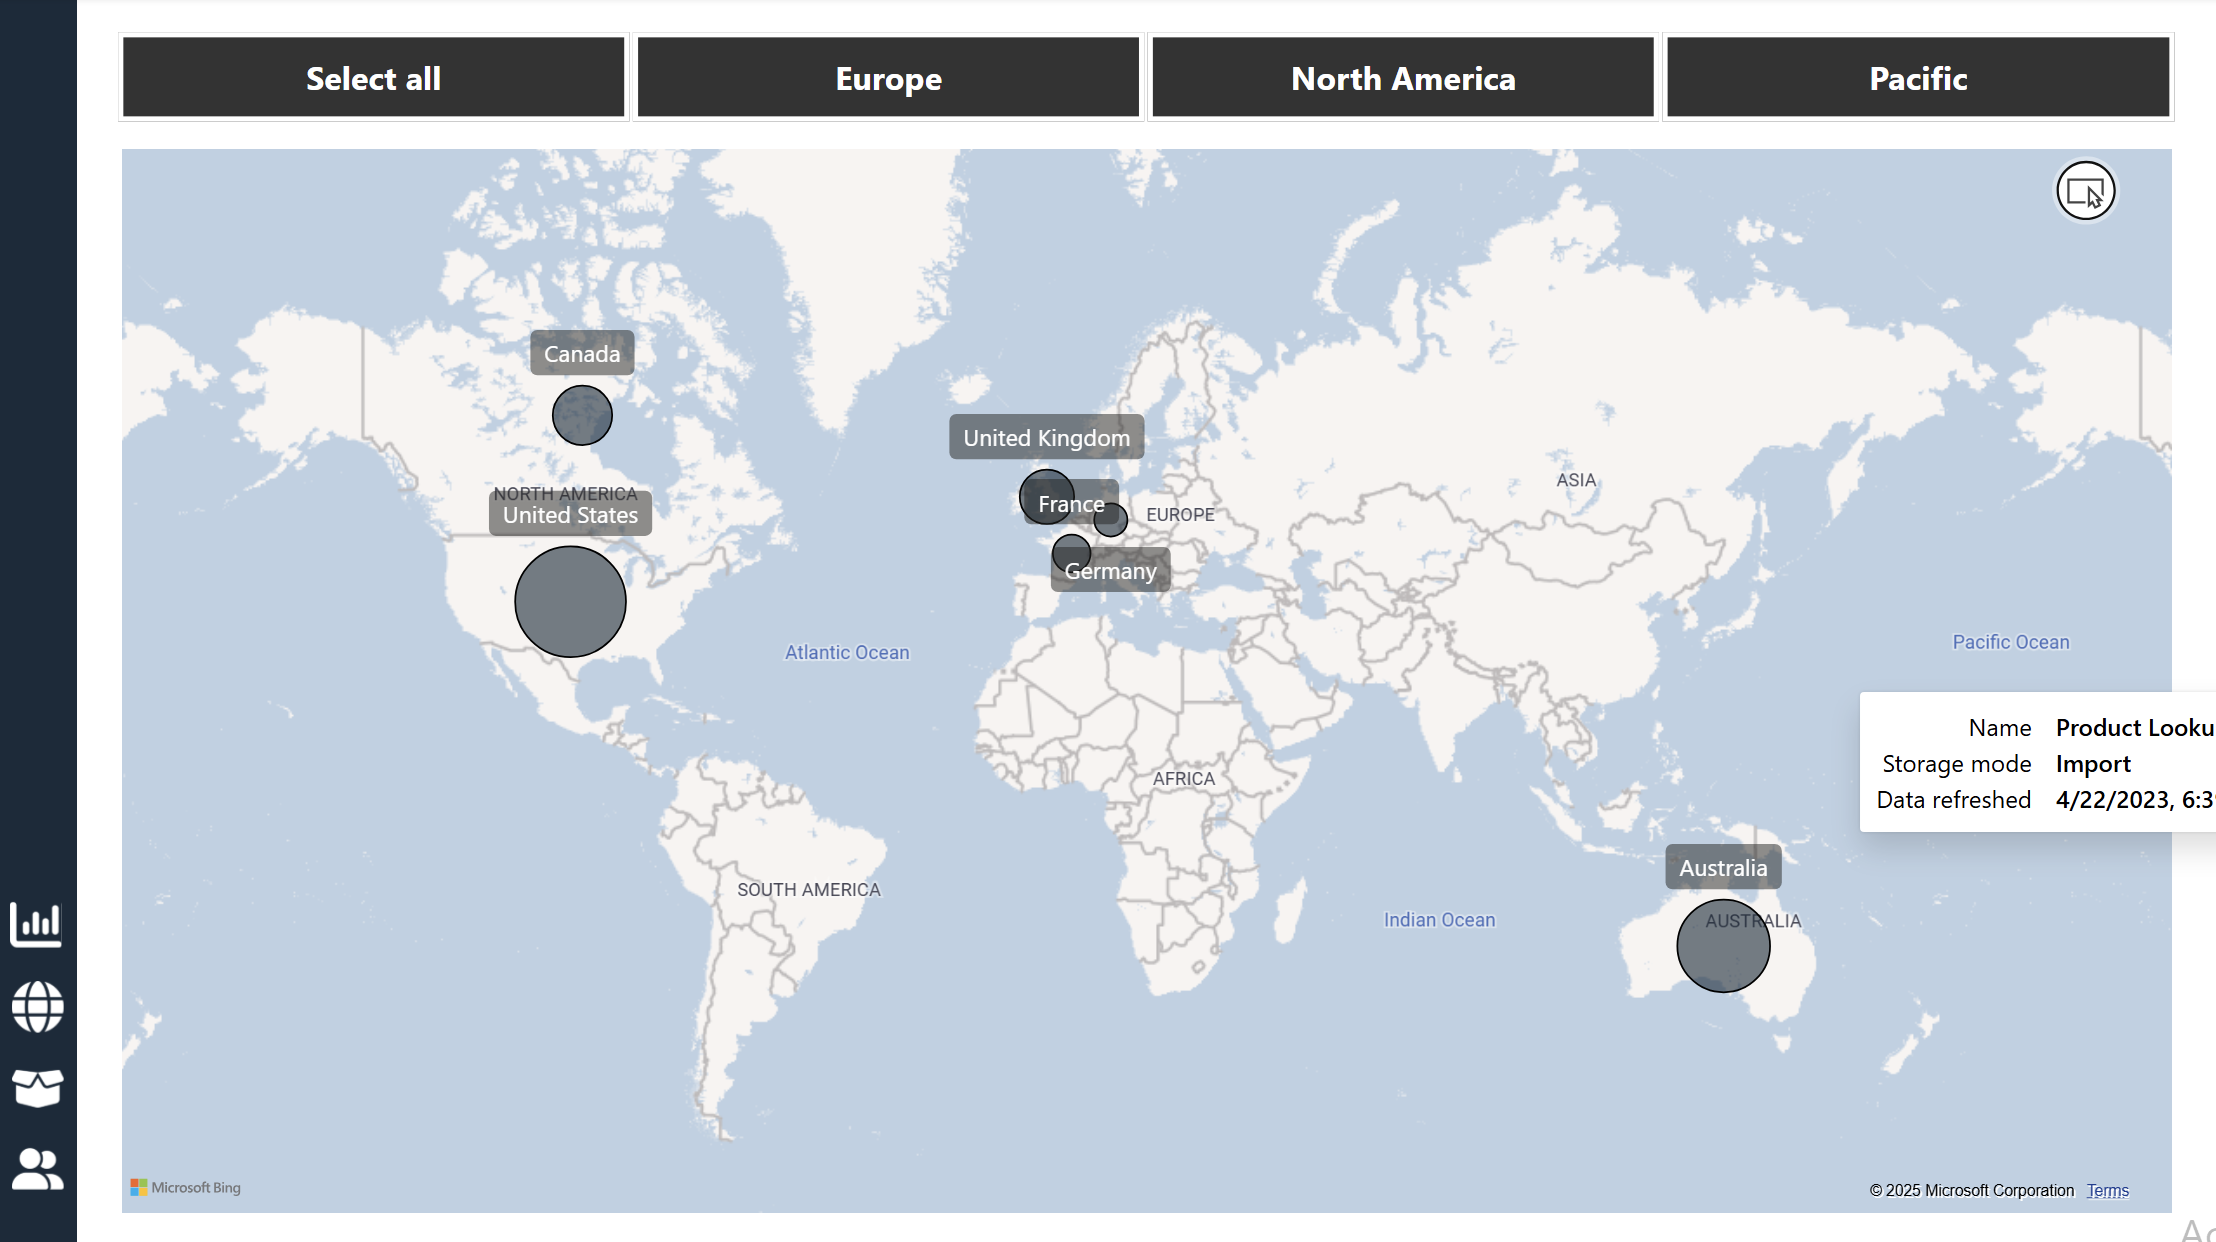

The dashboard page shown, as its layout file describes it:
{"tool":"powerbi","page":{"name":"Map","canvas":[1280,720],"ordinal":1},"visuals":[{"type":"shape","box":[0,0,45,720],"z":0},{"type":"actionButton","box":[2.5,516.7,45.6,37.8],"z":0,"group":"g1"},{"type":"actionButton","box":[3.3,563.4,45.6,37.8],"z":1000,"group":"g1"},{"type":"map","fields":{"Category":["Territory Lookup.Country"],"Size":["Measure Table.Total Orders"]},"box":[65.6,82.5,1191.3,622.8],"z":1000},{"type":"slicer","fields":{"Values":["Territory Lookup.Continent"]},"box":[43,13.6,1234.3,65.6],"z":2000},{"type":"actionButton","box":[3.3,611.1,45.6,37.8],"z":2000,"group":"g1"},{"type":"actionButton","box":[3.3,657.8,45.6,37.8],"z":3000,"group":"g1"},{"type":"group","id":"g1","title":"Navigation Buttons","box":[2.5,516.7,46.4,178.9],"z":3000}]}

Visuals, with their boxes on the page's 1280x720 design canvas (x1, y1, x2, y2). These are canvas units, not pixel positions in the 2216x1242 screenshot, which may show the page scaled, cropped or inside an application window:
shape: box(0, 0, 45, 720)
actionButton: box(2, 517, 48, 554)
actionButton: box(3, 563, 49, 601)
map - Territory Lookup.Country x Measure Table.Total Orders: box(66, 82, 1257, 705)
slicer - Territory Lookup.Continent: box(43, 14, 1277, 79)
actionButton: box(3, 611, 49, 649)
actionButton: box(3, 658, 49, 696)
"Navigation Buttons" group: box(2, 517, 49, 696)
